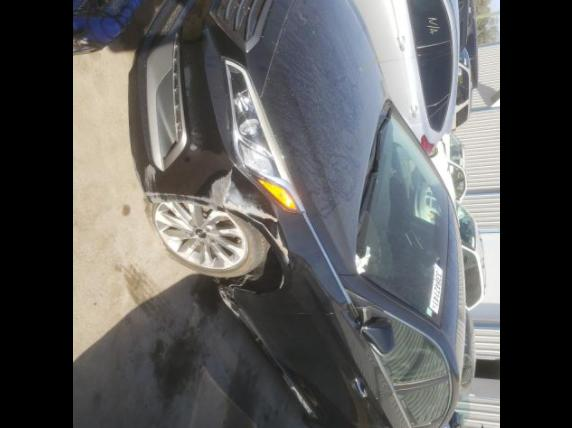Broken part: (148, 202, 260, 279), (215, 265, 278, 313), (211, 162, 236, 211)
Dent: (203, 165, 292, 259)
Scratch: (144, 164, 288, 262), (147, 196, 233, 215), (279, 377, 316, 416), (218, 287, 238, 316), (278, 276, 283, 289)
